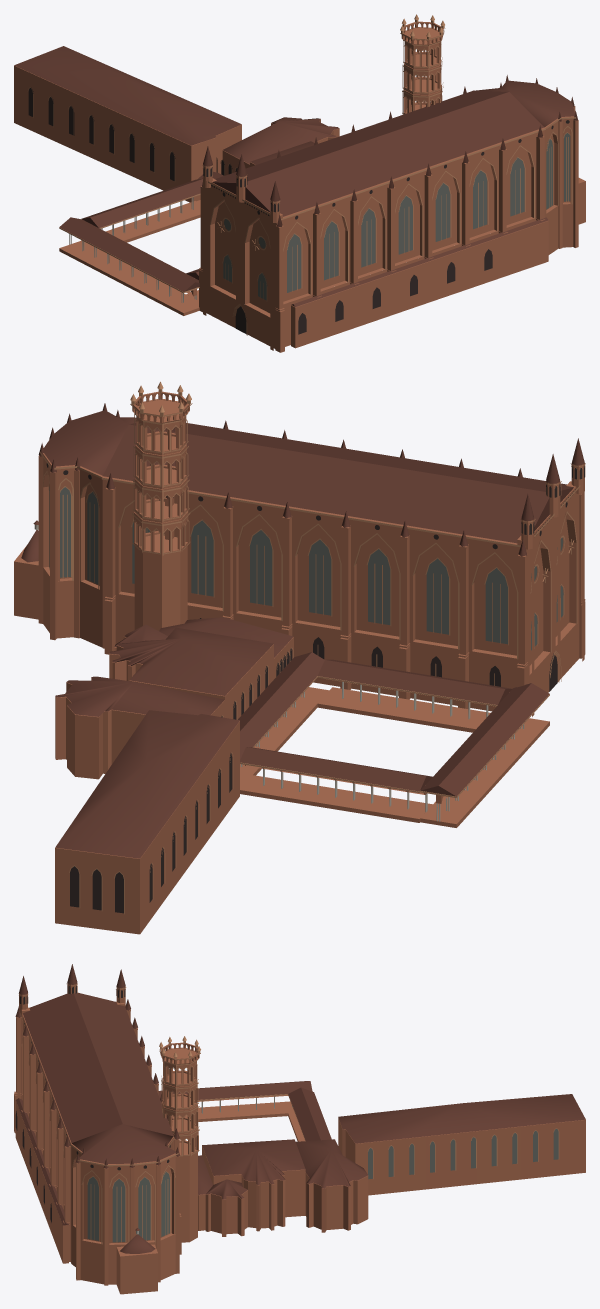
Rendered from couvent-des-jacobins-far.glb.
The picture shows the model from 3 angles, top to bottom: view 1: azimuth 30°, elevation 25°; view 2: azimuth 150°, elevation 25°; view 3: azimuth 270°, elevation 25°; orthographic projection. The views are drawn at different scales.
Parts seen in each view (by area): view 1: couvent-des-jacobins-0-brick, couvent-des-jacobins-0-roof, couvent-des-jacobins-0-glass, couvent-des-jacobins-0-trim, couvent-des-jacobins-0-recess, couvent-des-jacobins-0-stone; view 2: couvent-des-jacobins-0-brick, couvent-des-jacobins-0-roof, couvent-des-jacobins-0-trim, couvent-des-jacobins-0-glass, couvent-des-jacobins-0-recess, couvent-des-jacobins-0-stone; view 3: couvent-des-jacobins-0-brick, couvent-des-jacobins-0-roof, couvent-des-jacobins-0-glass, couvent-des-jacobins-0-trim, couvent-des-jacobins-0-recess.
Part boxes in pixels (x1=…): couvent-des-jacobins-0-brick: x1=14, y1=21, x2=585, y2=352; couvent-des-jacobins-0-roof: x1=14, y1=46, x2=577, y2=306; couvent-des-jacobins-0-glass: x1=223, y1=133, x2=570, y2=300; couvent-des-jacobins-0-trim: x1=27, y1=14, x2=575, y2=335; couvent-des-jacobins-0-recess: x1=28, y1=87, x2=569, y2=334; couvent-des-jacobins-0-stone: x1=69, y1=197, x2=196, y2=302; couvent-des-jacobins-0-brick: x1=14, y1=391, x2=585, y2=934; couvent-des-jacobins-0-roof: x1=21, y1=403, x2=584, y2=858; couvent-des-jacobins-0-trim: x1=40, y1=381, x2=585, y2=914; couvent-des-jacobins-0-glass: x1=49, y1=487, x2=563, y2=650; couvent-des-jacobins-0-recess: x1=46, y1=463, x2=584, y2=913; couvent-des-jacobins-0-stone: x1=34, y1=525, x2=524, y2=821; couvent-des-jacobins-0-brick: x1=14, y1=983, x2=585, y2=1294; couvent-des-jacobins-0-roof: x1=15, y1=964, x2=585, y2=1253; couvent-des-jacobins-0-glass: x1=87, y1=1128, x2=558, y2=1242; couvent-des-jacobins-0-trim: x1=18, y1=983, x2=559, y2=1244; couvent-des-jacobins-0-recess: x1=15, y1=986, x2=170, y2=1222.
Size of the model in its own units: 96.27 by 45 by 122.
